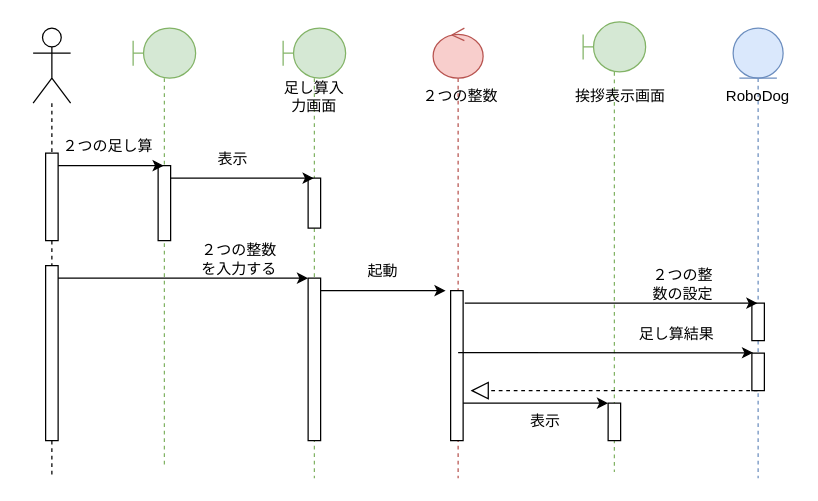
Image size: 818x501. Some labels were removed from this diagram. The centre of each missing label's shape, as x and y in pixels:
"システムメニュー" belongs at point 164,246.
"ユーザー" belongs at point 51,65.
